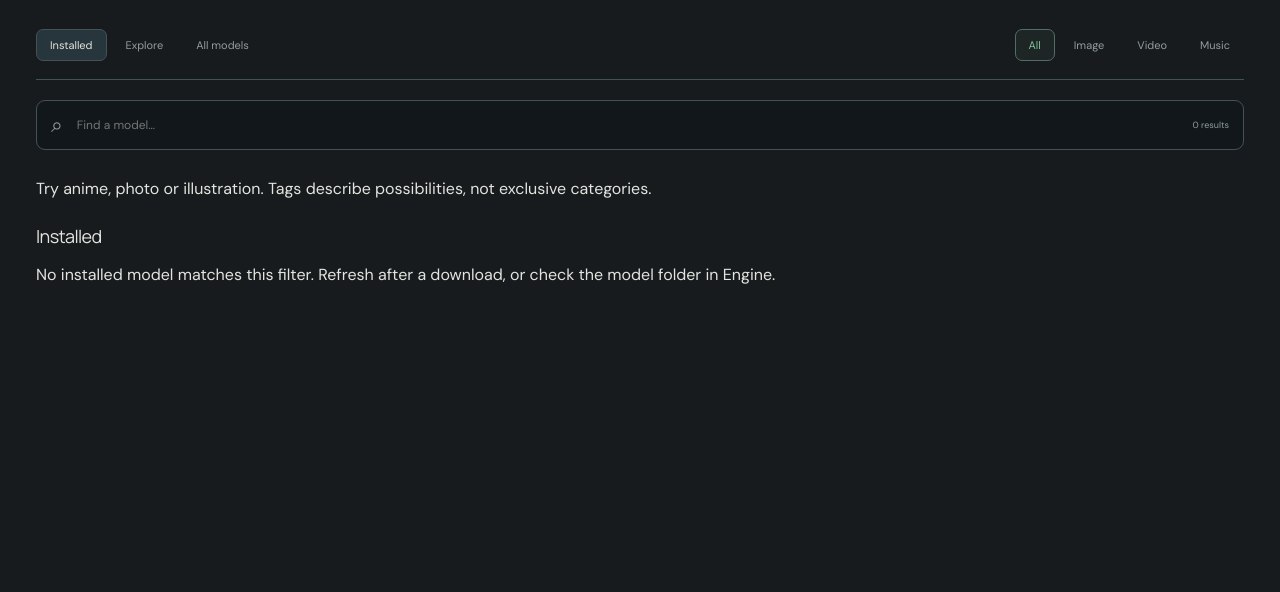
it: catalog failure is visible and forwarded to the central native log without error payloads
Click the tab "Explore".
click(144, 45)  # box [112, 29, 177, 61]
(page scrolled)
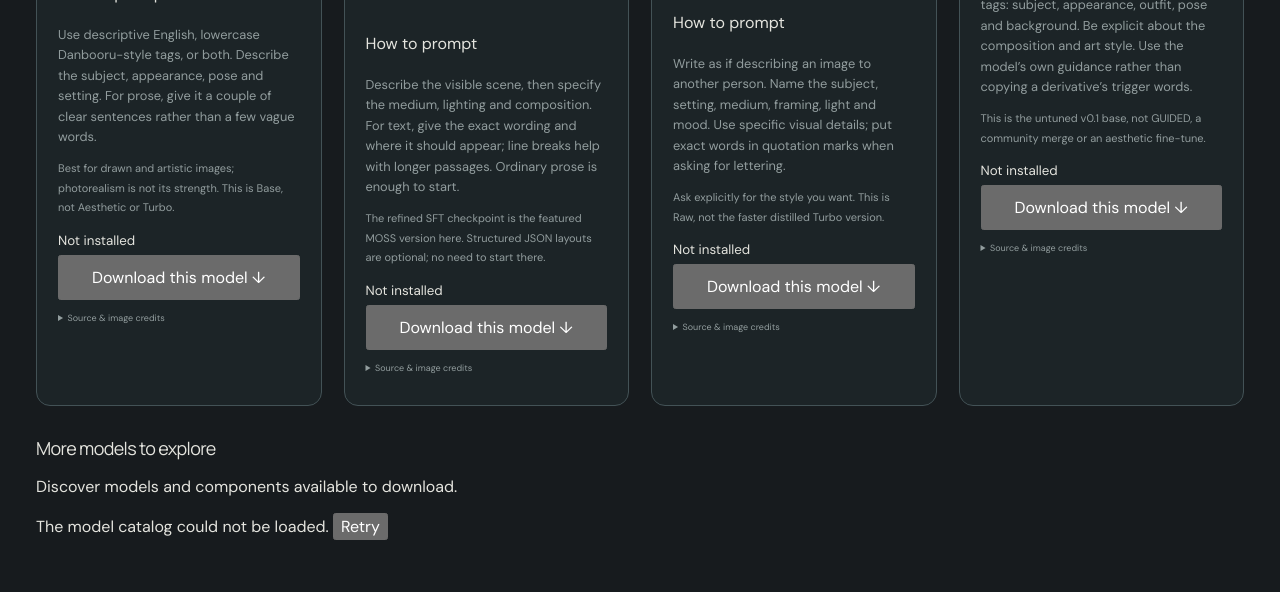
expect the message shows "could not be loaded": met, box [36, 516, 329, 537]
